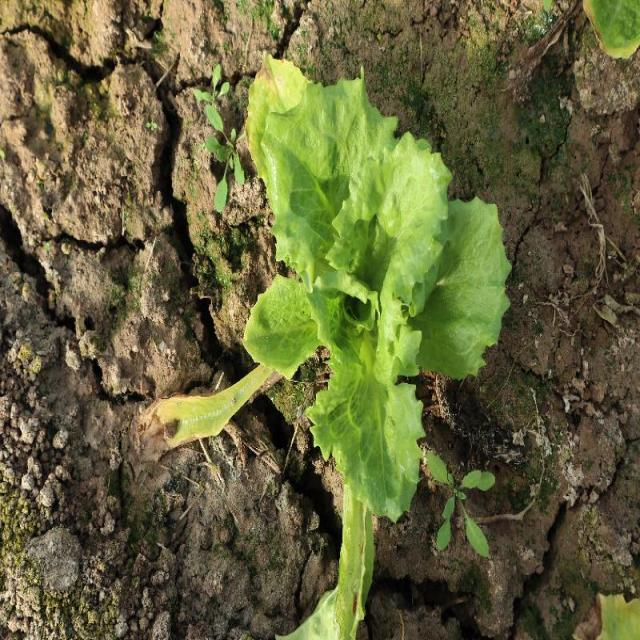crop: (243, 51, 510, 521)
